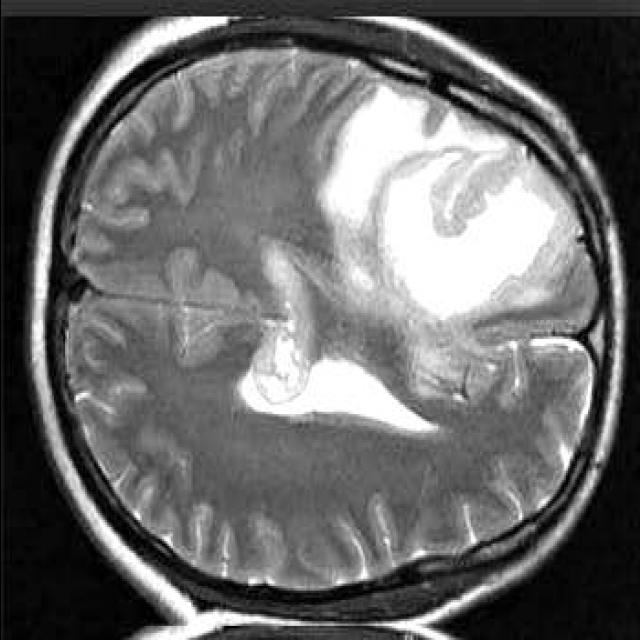tumor: (316, 82, 558, 322)
